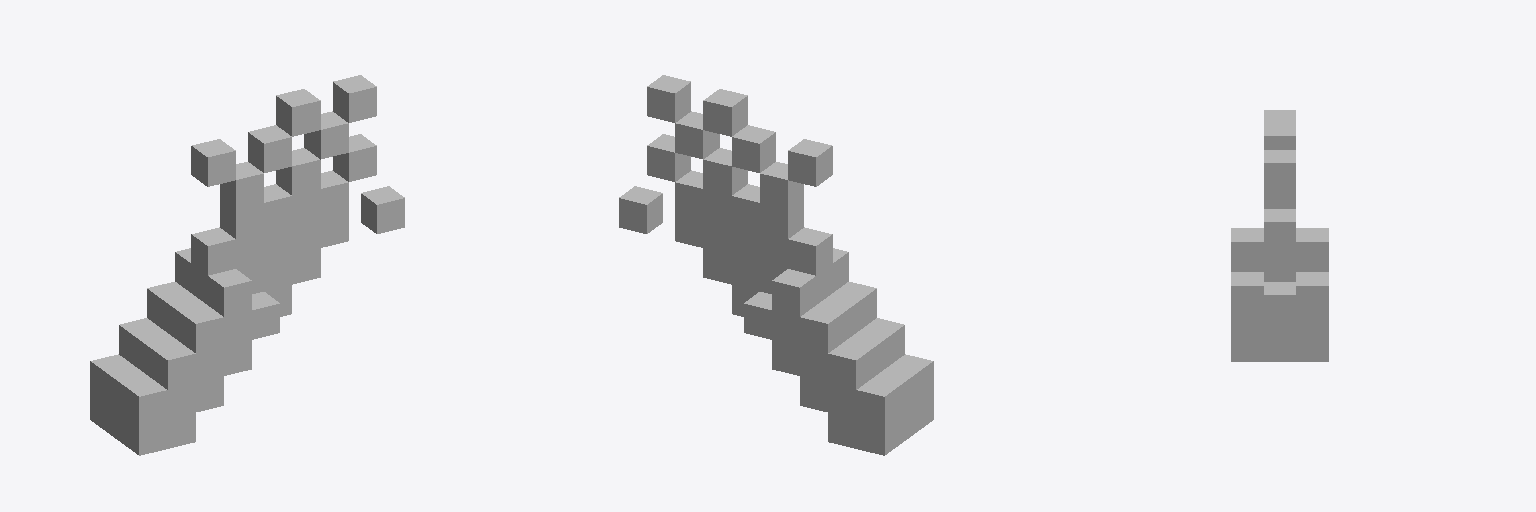
Rendered from Fackel.obj.
3 renders of one model, left to right at view 1: azimuth 30°, elevation 25°; view 2: azimuth 150°, elevation 25°; view 3: azimuth 270°, elevation 25°, orthographic.
Bounding box in the file's own units: 10 × 10 × 3.